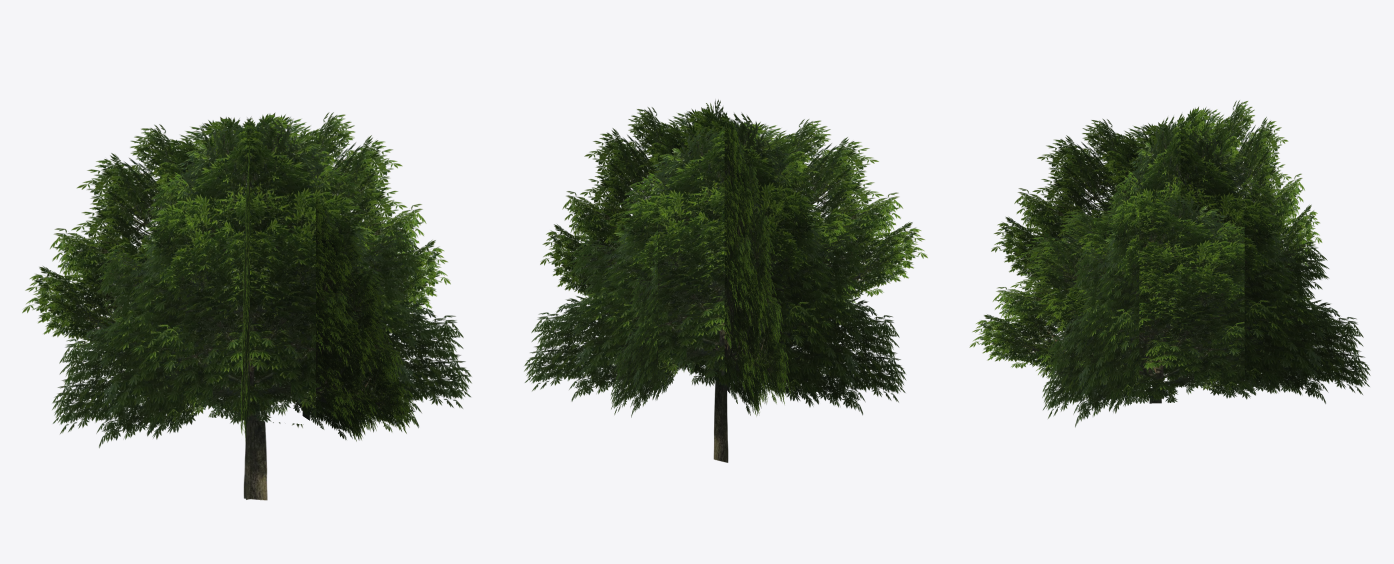
The model's file is trees_and_bush_pack_tree2.glb.
3 renders of one model, left to right at view 1: azimuth 30°, elevation 25°; view 2: azimuth 150°, elevation 25°; view 3: azimuth 270°, elevation 25°, orthographic. The views are drawn at different scales.
Parts seen in each view (by area): view 1: tree2; view 2: tree2; view 3: tree2.
Boxes of the visible parts, x1,y1,x2,y2 form: tree2: (22,112,471,500); tree2: (524,99,927,462); tree2: (969,100,1370,427).
Size of the model in its own units: 6.37 by 5.75 by 6.14.
1 material, 1 textured.
